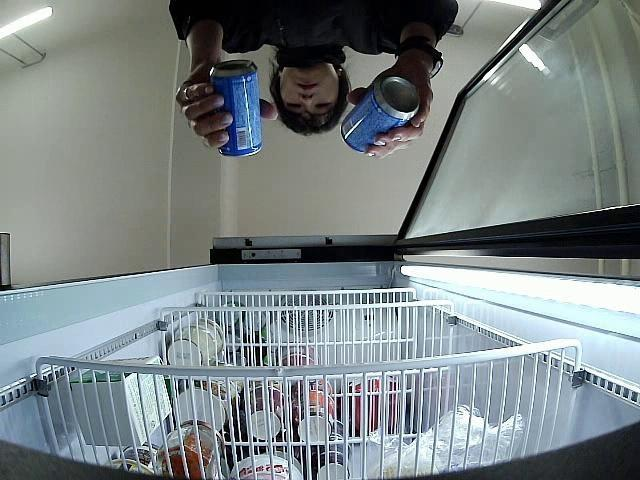15_letsbe: (338, 72, 422, 154), (210, 60, 264, 158)
